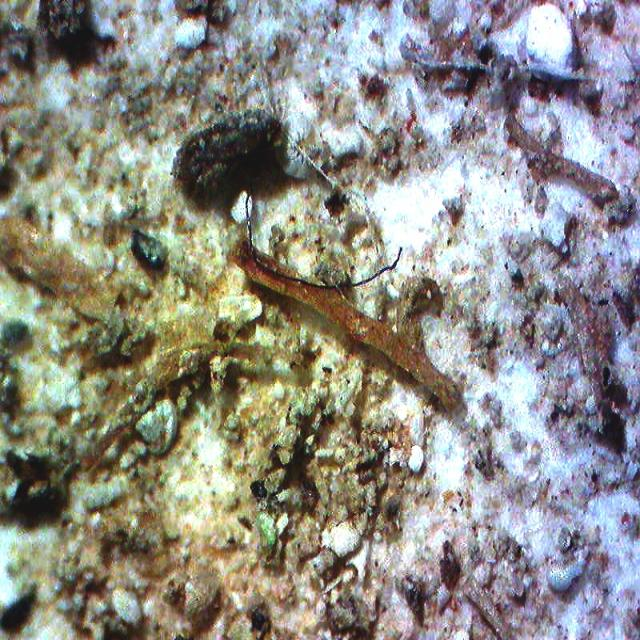microplastic: (224, 191, 404, 314)
